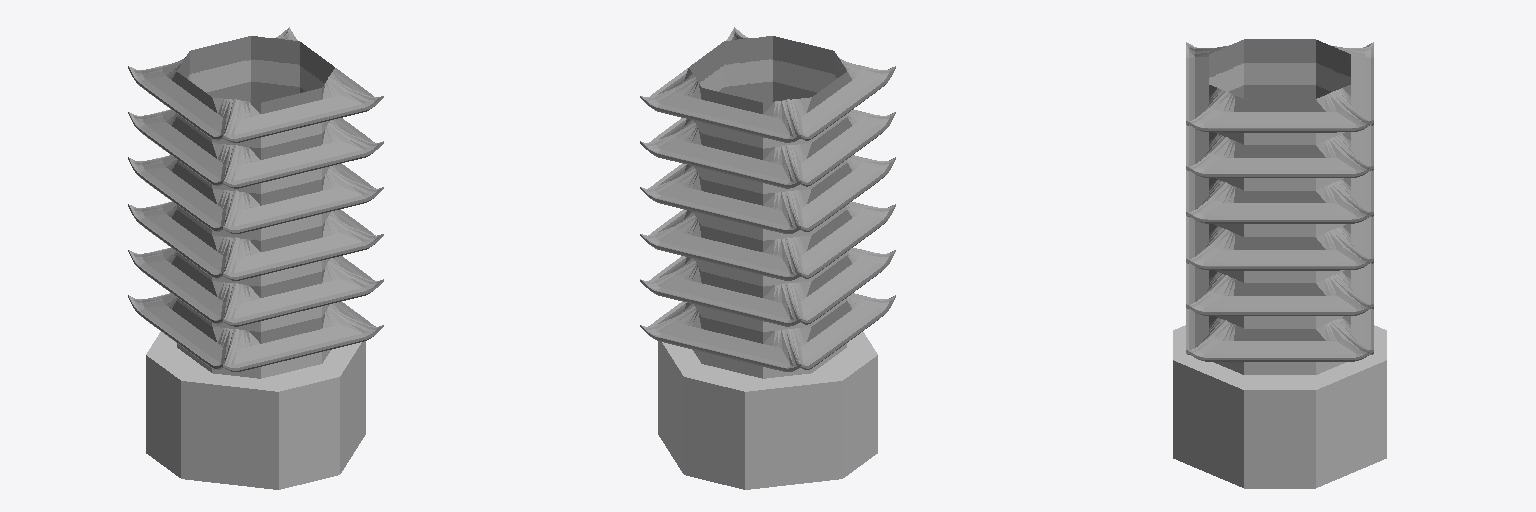
Rendered from chinese-building.obj.
3 renders of one model, left to right at view 1: azimuth 30°, elevation 25°; view 2: azimuth 150°, elevation 25°; view 3: azimuth 270°, elevation 25°, orthographic.
Parts seen in each view (by area): view 1: Cube_Cube.001, Cube.007_Cube.009, Cube.009_Cube.011, Cube.006_Cube.008, Cube.001_Cube.002, Cube.012_Cube.014, Cube.004_Cube.006, Cube.008_Cube.010, Cube.002_Cube.003, Cube.011_Cube.013, Cube.005_Cube.007, Cube.010_Cube.012 (+1 smaller); view 2: Cube_Cube.001, Cube.007_Cube.009, Cube.009_Cube.011, Cube.006_Cube.008, Cube.004_Cube.006, Cube.001_Cube.002, Cube.012_Cube.014, Cube.008_Cube.010, Cube.002_Cube.003, Cube.011_Cube.013, Cube.005_Cube.007, Cube.010_Cube.012 (+1 smaller); view 3: Cube_Cube.001, Cube.007_Cube.009, Cube.009_Cube.011, Cube.006_Cube.008, Cube.012_Cube.014, Cube.001_Cube.002, Cube.004_Cube.006, Cube.008_Cube.010, Cube.002_Cube.003, Cube.011_Cube.013, Cube.003_Cube.005, Cube.010_Cube.012 (+1 smaller).
Part boxes in pixels (x1,y1,x2,y2): Cube_Cube.001: (146, 332, 365, 489); Cube.007_Cube.009: (128, 27, 383, 142); Cube.009_Cube.011: (128, 81, 383, 188); Cube.006_Cube.008: (128, 202, 383, 280); Cube.001_Cube.002: (128, 293, 383, 371); Cube.012_Cube.014: (128, 155, 383, 233); Cube.004_Cube.006: (128, 248, 383, 326); Cube.008_Cube.010: (177, 59, 330, 147); Cube.002_Cube.003: (177, 343, 330, 378); Cube.011_Cube.013: (177, 205, 330, 240); Cube.005_Cube.007: (177, 252, 330, 286); Cube.010_Cube.012: (177, 160, 329, 193); Cube_Cube.001: (658, 332, 877, 489); Cube.007_Cube.009: (640, 27, 895, 142); Cube.009_Cube.011: (640, 81, 895, 188); Cube.006_Cube.008: (640, 202, 895, 280); Cube.004_Cube.006: (640, 248, 895, 326); Cube.001_Cube.002: (640, 293, 895, 371); Cube.012_Cube.014: (640, 155, 895, 233); Cube.008_Cube.010: (693, 59, 846, 148); Cube.002_Cube.003: (693, 343, 846, 378); Cube.011_Cube.013: (693, 205, 846, 240); Cube.005_Cube.007: (693, 252, 846, 286); Cube.010_Cube.012: (694, 160, 846, 193); Cube_Cube.001: (1173, 325, 1386, 488); Cube.007_Cube.009: (1186, 39, 1373, 132); Cube.009_Cube.011: (1186, 85, 1373, 177); Cube.006_Cube.008: (1186, 216, 1373, 270); Cube.012_Cube.014: (1186, 170, 1373, 223); Cube.001_Cube.002: (1186, 309, 1373, 361); Cube.004_Cube.006: (1186, 263, 1373, 315); Cube.008_Cube.010: (1209, 63, 1350, 144); Cube.002_Cube.003: (1214, 362, 1345, 374); Cube.011_Cube.013: (1214, 224, 1345, 236); Cube.003_Cube.005: (1216, 316, 1343, 328); Cube.010_Cube.012: (1216, 178, 1343, 190).
Size of the model in its own units: 2 by 3.88 by 2.